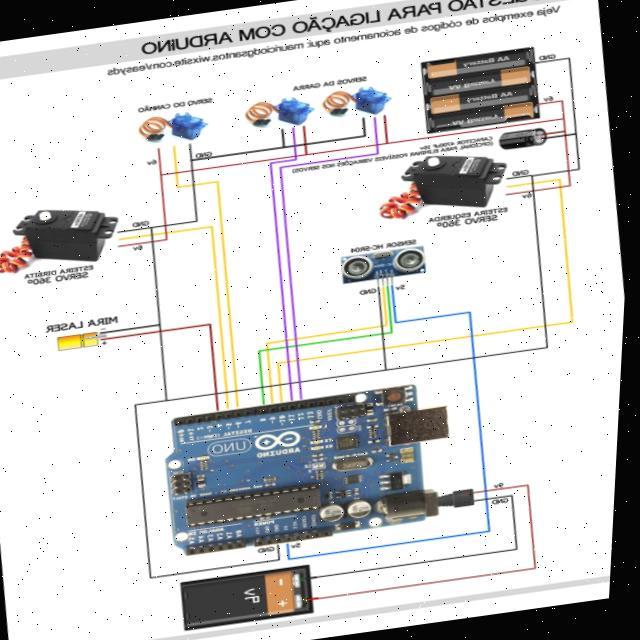Arduino: (152, 370, 484, 567)
